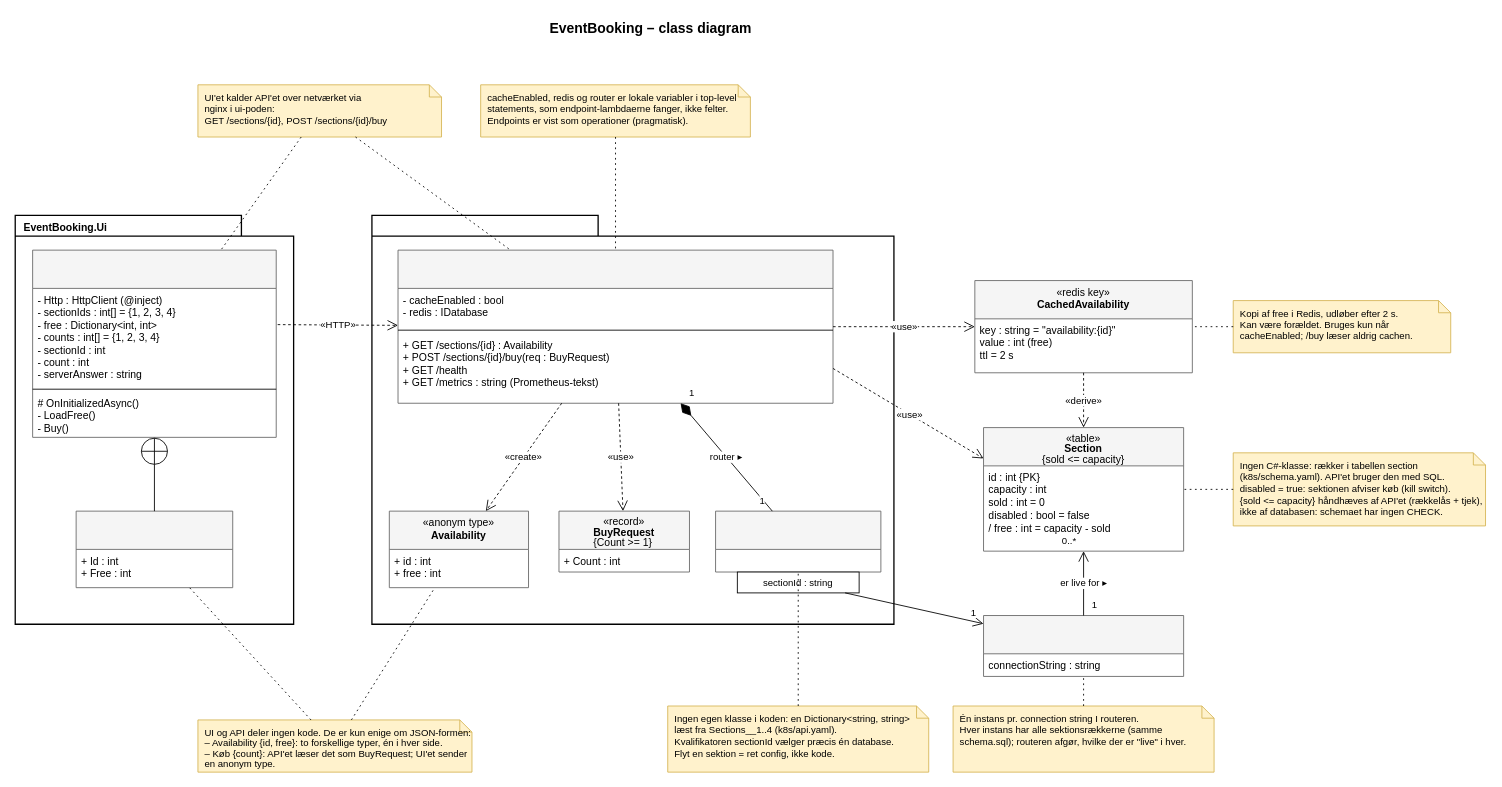
Some shapes in this 1502 by 787 pixel diagram are drawn without their labels. The box of each missing label's shape, as (x1, y1, x2, y2) in pixels:
EventBooking.Api: (371, 214, 894, 624)
«config: Sections» Router: (715, 510, 881, 572)
«database» Database: (983, 615, 1184, 676)
«minimal API» Program: (397, 249, 833, 403)
«Razor component» Book: (32, 249, 276, 437)
«record» Availability: (75, 510, 233, 588)
